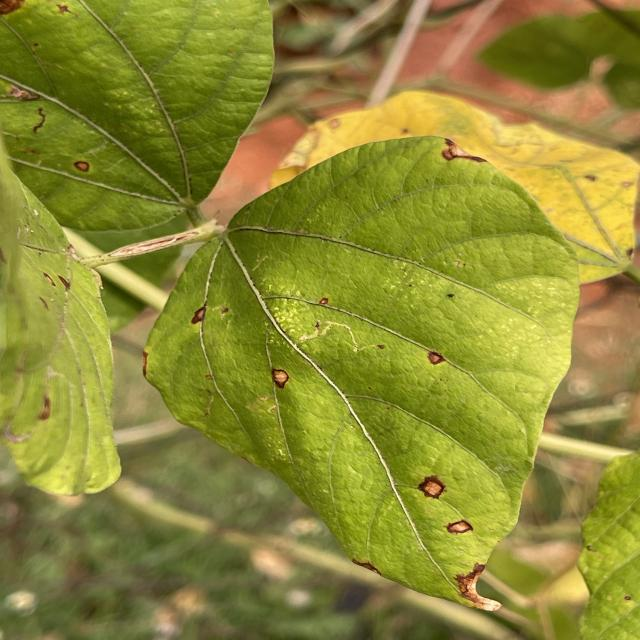Dolicos bean_cercospora leaf spot: (153, 130, 566, 606)
